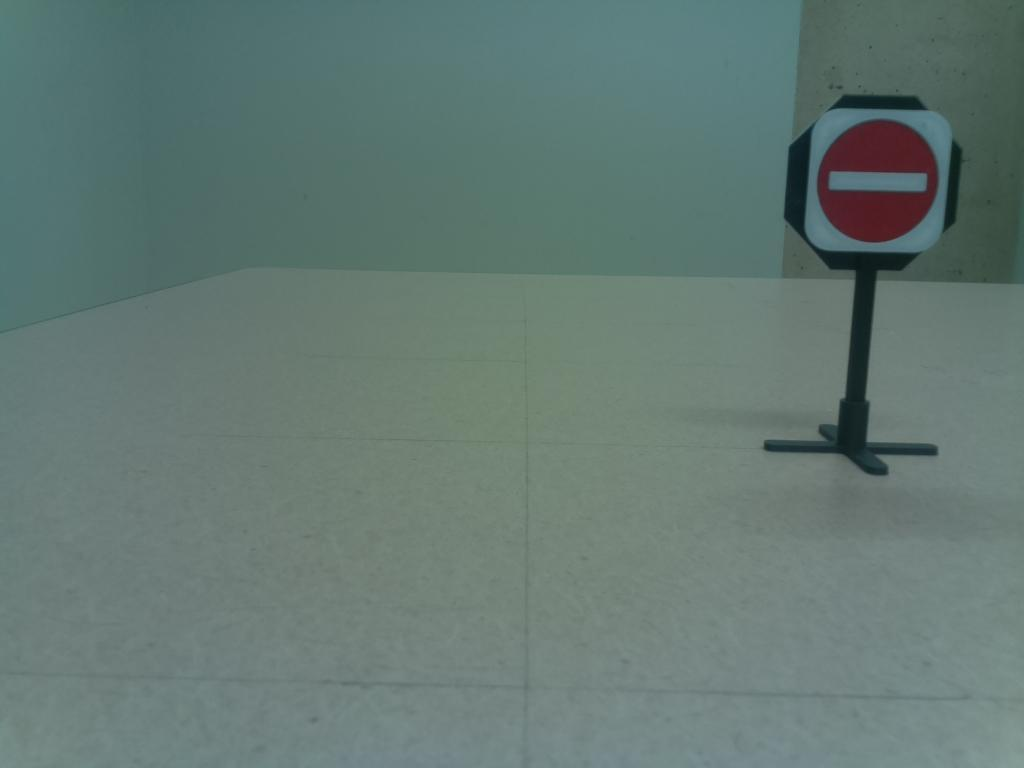sign_noentry: (780, 85, 969, 273)
